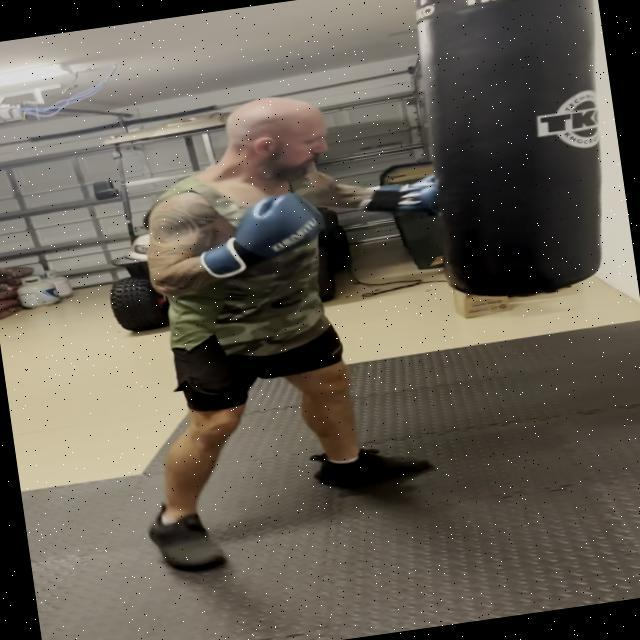bag: (407, 0, 634, 307)
hook: (112, 62, 475, 300)
